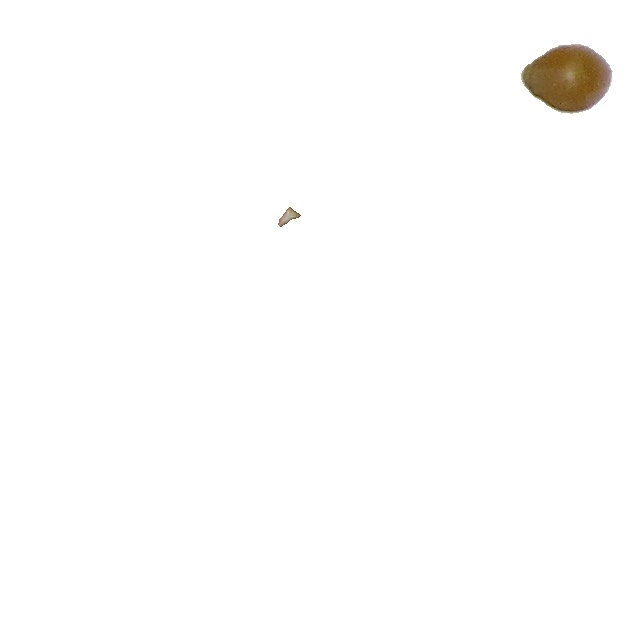mais: (520, 43, 614, 115), (277, 206, 302, 228)
